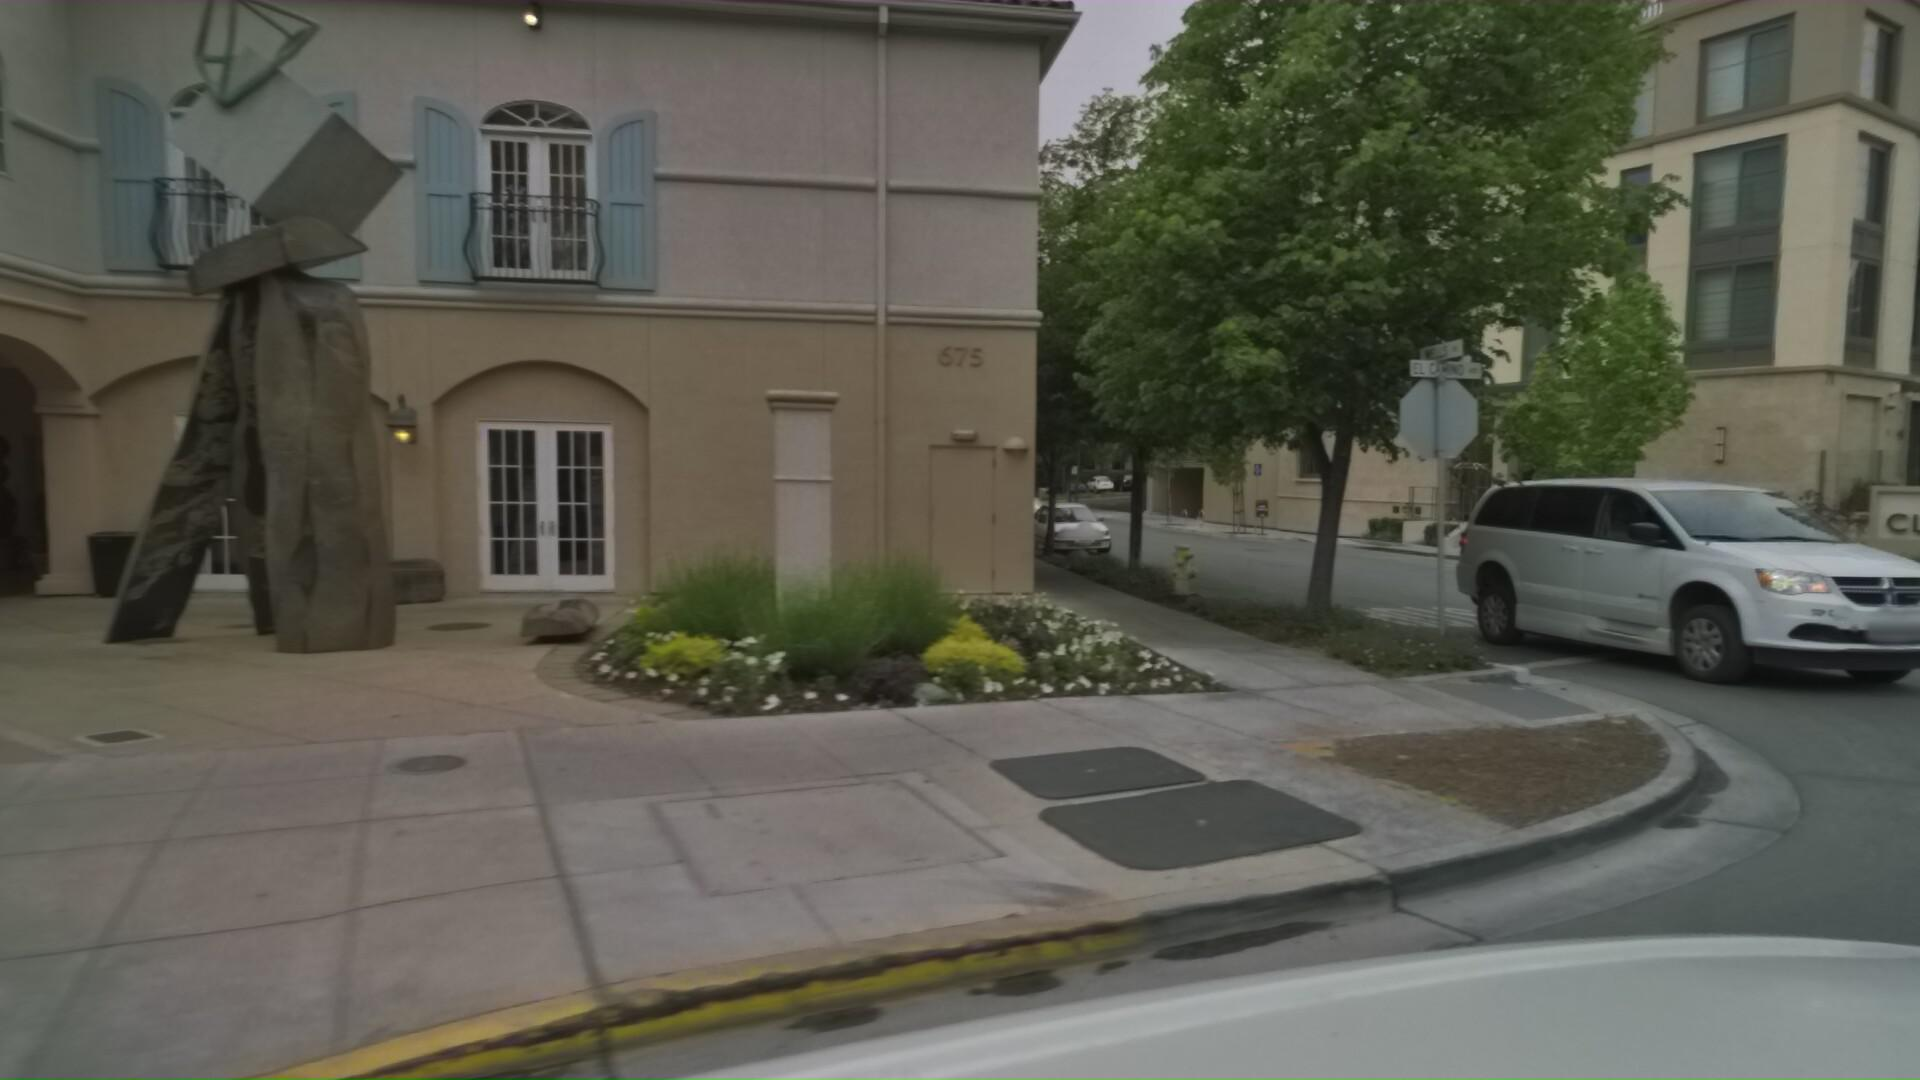car: (1449, 465, 1920, 713), (1036, 496, 1135, 556)
